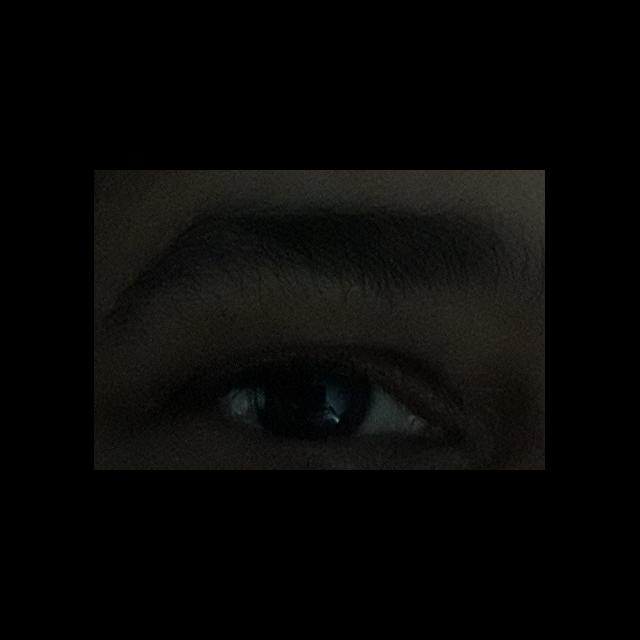eye: (223, 368, 420, 441)
iris: (257, 373, 373, 436)
